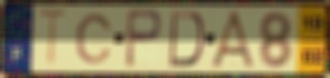8: (256, 9, 296, 70)
A: (208, 8, 260, 71)
C: (74, 12, 115, 66)
D: (166, 10, 205, 69)
P: (124, 8, 165, 70)
T: (36, 7, 71, 70)
